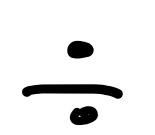div: (22, 41, 123, 126)
